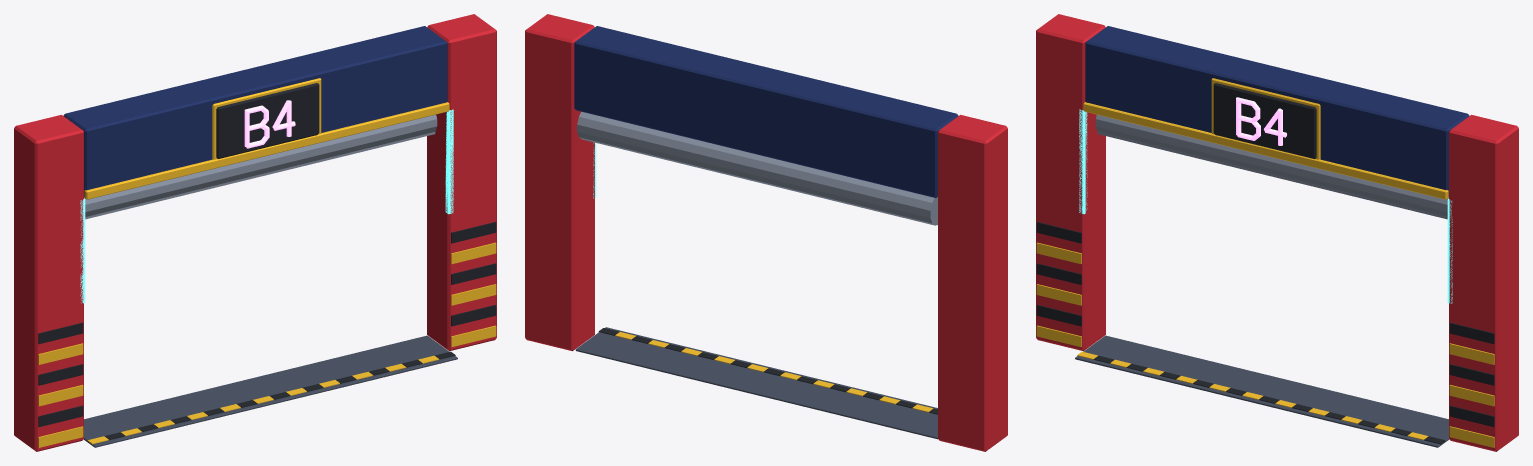
File: GarageFront_B4.fbx
The picture shows the model from 3 angles, left to right: view 1: azimuth 30°, elevation 25°; view 2: azimuth 150°, elevation 25°; view 3: azimuth 330°, elevation 25°; orthographic projection.
Visible parts, largest first — view 1: GarageFront_B4, Neon_Cyan, Neon_Pink; view 2: GarageFront_B4; view 3: GarageFront_B4, Neon_Cyan, Neon_Pink.
Boxes of the visible parts, x1=… form: GarageFront_B4: x1=14, y1=14, x2=496, y2=451; Neon_Cyan: x1=80, y1=109, x2=453, y2=303; Neon_Pink: x1=244, y1=100, x2=295, y2=148; GarageFront_B4: x1=525, y1=14, x2=1007, y2=451; GarageFront_B4: x1=1036, y1=14, x2=1518, y2=451; Neon_Cyan: x1=1079, y1=109, x2=1452, y2=303; Neon_Pink: x1=1236, y1=97, x2=1286, y2=145.
Size of the model in its own units: 28 by 18 by 3.53.
3 materials, 1 textured.
